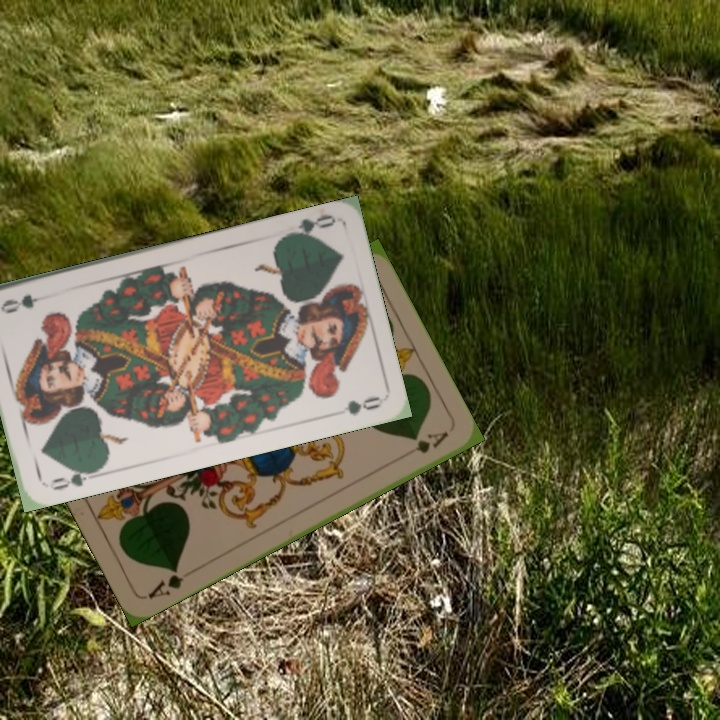GA: (143, 563, 187, 602)
GO: (280, 210, 337, 241), (49, 464, 100, 493)
